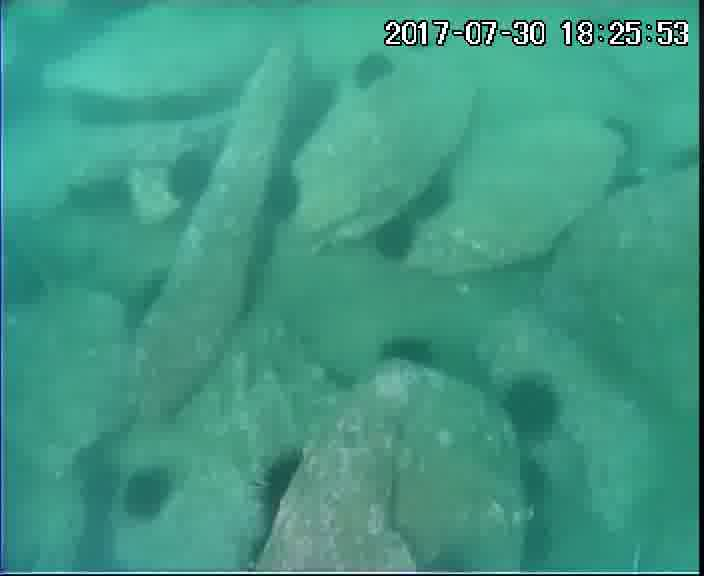echinus: (498, 375, 560, 442), (1, 241, 52, 308), (255, 449, 303, 520), (69, 173, 139, 219), (514, 509, 563, 572), (166, 147, 215, 208), (122, 469, 169, 524), (259, 173, 306, 225), (375, 214, 418, 268), (409, 175, 455, 225), (351, 49, 400, 95), (382, 333, 436, 372), (292, 78, 336, 121), (279, 112, 321, 157), (522, 455, 553, 513)
